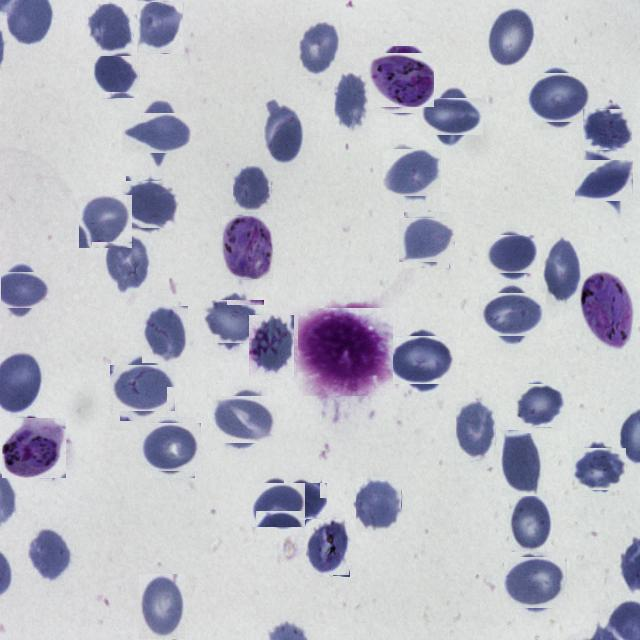leukocyte: (299, 306, 392, 398)
red blood cell: (529, 68, 587, 126), (130, 104, 188, 162), (394, 331, 452, 388), (507, 553, 564, 611), (486, 5, 536, 70), (115, 360, 171, 416), (484, 286, 540, 342), (216, 391, 272, 447), (143, 420, 198, 475), (139, 574, 185, 639), (500, 430, 544, 497), (385, 146, 438, 200), (78, 195, 132, 248), (124, 178, 176, 232), (106, 234, 151, 296), (249, 315, 294, 377), (207, 295, 259, 348), (142, 304, 188, 362), (509, 493, 554, 552), (425, 91, 477, 142), (262, 101, 304, 164), (28, 528, 74, 584), (542, 237, 581, 303), (306, 518, 350, 576), (298, 19, 341, 78), (356, 477, 402, 532), (402, 215, 452, 265), (580, 156, 630, 206), (137, 2, 184, 54), (456, 401, 496, 462), (88, 4, 134, 57), (574, 444, 624, 492), (254, 480, 302, 530), (0, 266, 46, 315), (334, 72, 370, 134), (94, 51, 140, 99), (516, 382, 564, 428), (585, 106, 630, 152), (489, 232, 534, 277), (233, 166, 272, 213), (282, 481, 324, 524)
trophozoite: (2, 417, 65, 479), (582, 272, 634, 346), (371, 50, 431, 110), (222, 216, 274, 280)
